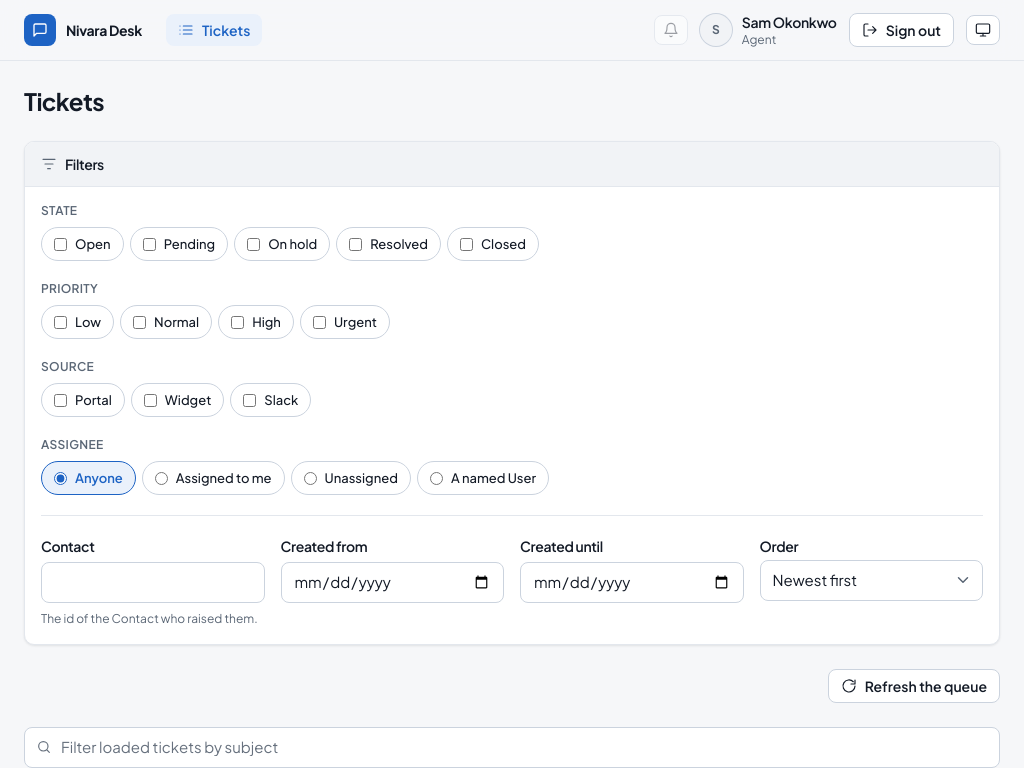
nothing matched › says the filters matched nothing, distinguishably from a failure
Step 1. Click the checkbox labelled "Closed" → (466,244), box [460,238,473,250]
(page scrolled)
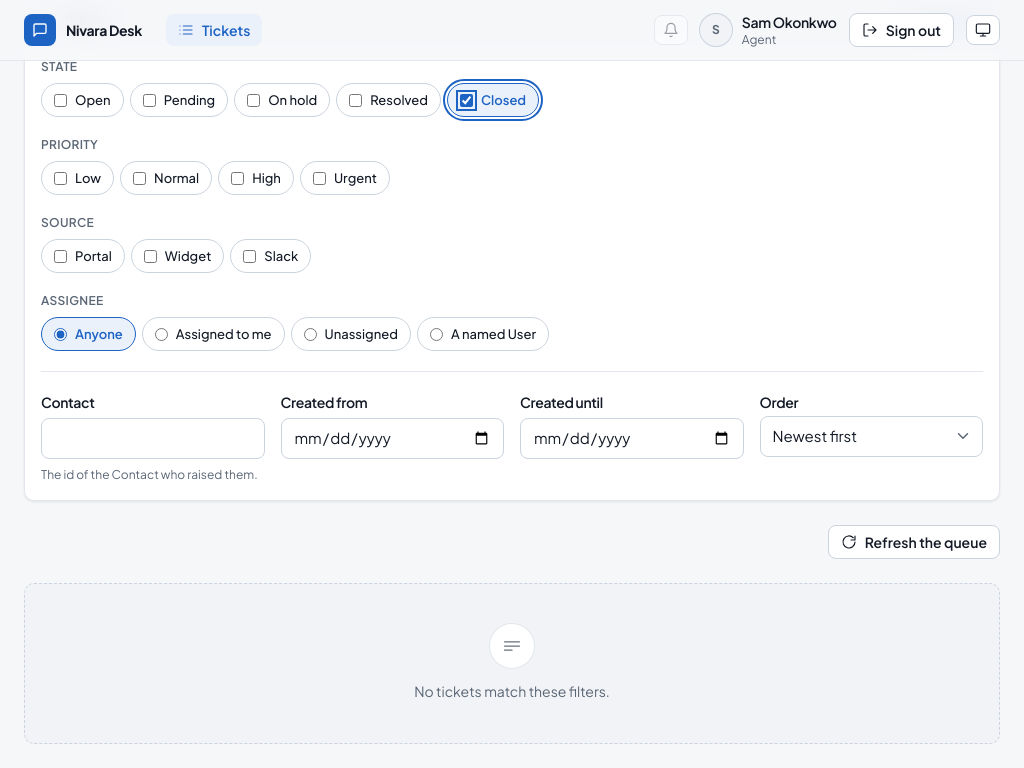
expect the text "No tickets match these filters." is shown: met, box [414,680,610,703]
